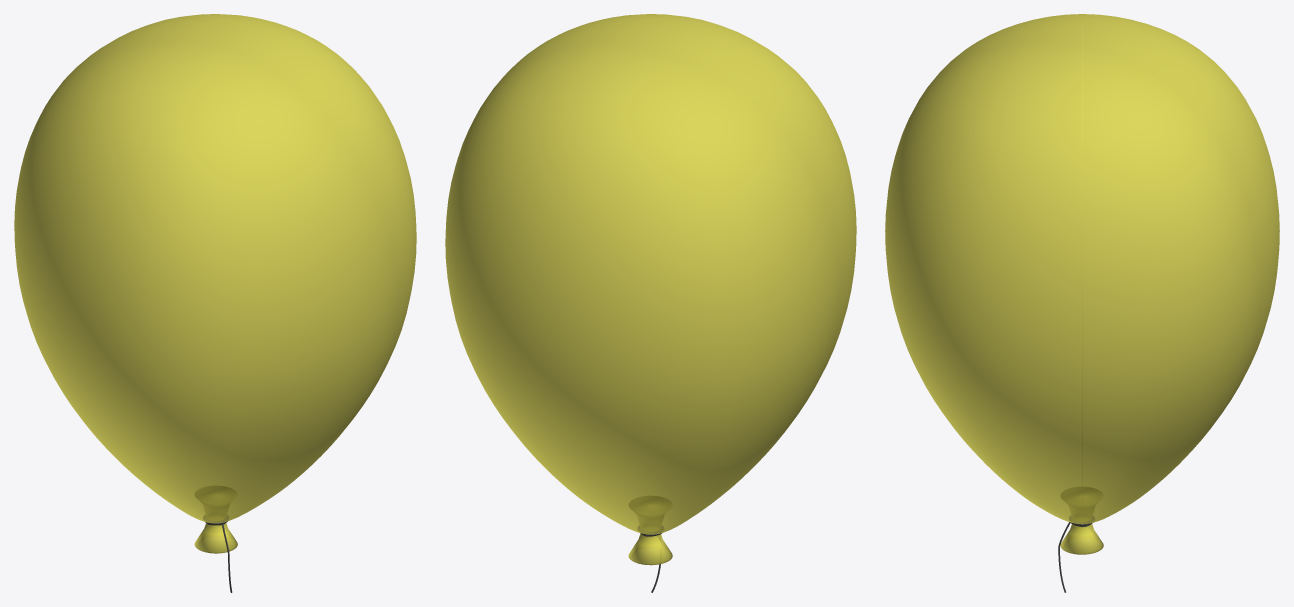
Rendered from ballon_jaune.glb.
3 renders of one model, left to right at view 1: azimuth 30°, elevation 25°; view 2: azimuth 150°, elevation 25°; view 3: azimuth 270°, elevation 25°, orthographic. The views are drawn at different scales.
Visible parts, largest first — view 1: Cube.003, Cylinder.006; view 2: Cube.003, Cylinder.006; view 3: Cube.003, Cylinder.006.
Boxes of the visible parts, <box> form: Cube.003: <box>14,14,416,523</box>; Cylinder.006: <box>194,486,237,553</box>; Cube.003: <box>445,14,856,534</box>; Cylinder.006: <box>628,496,672,565</box>; Cube.003: <box>885,14,1279,524</box>; Cylinder.006: <box>1060,487,1103,554</box>.
Size of the model in its own units: 0.9787 by 1.52 by 0.9787.
